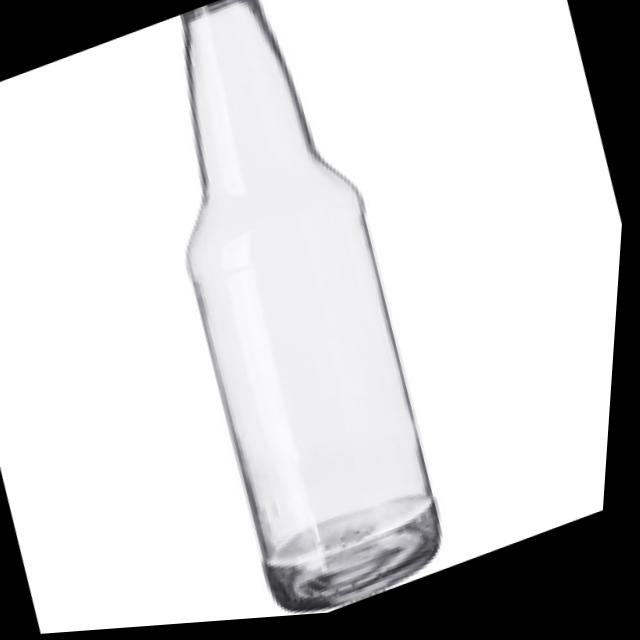glass_beverage_bottles: (100, 0, 487, 632)
